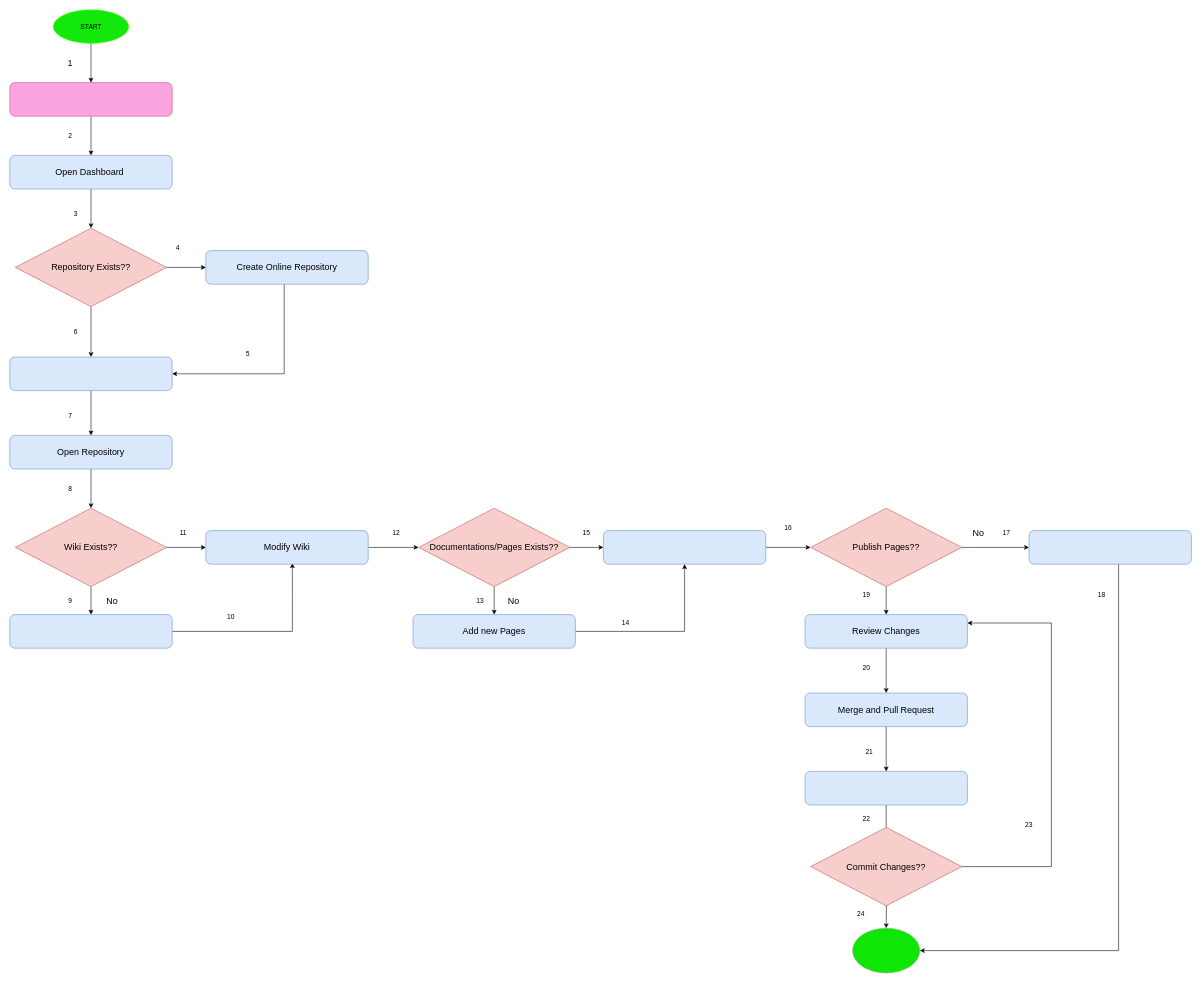
Image size: 1201x983. Some labels were removed from this diagram. Here are the shapes that lost their labels. From the top down, the centre of each, then its label:
At [90,99]: "Log in to the Website".
At [90,373]: "Name the Repository".
At [684,547]: "Edit Pages and Delete if needed".
At [1109,547]: "Delete if error".
At [90,631]: "Create new Wiki".
At [885,788]: "Count & Approve all the wikis & pages".
At [886,950]: "END".
